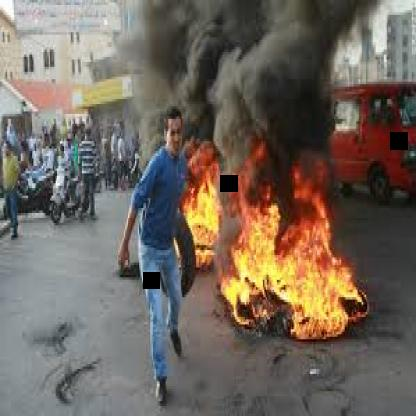fire: (181, 0, 363, 334)
